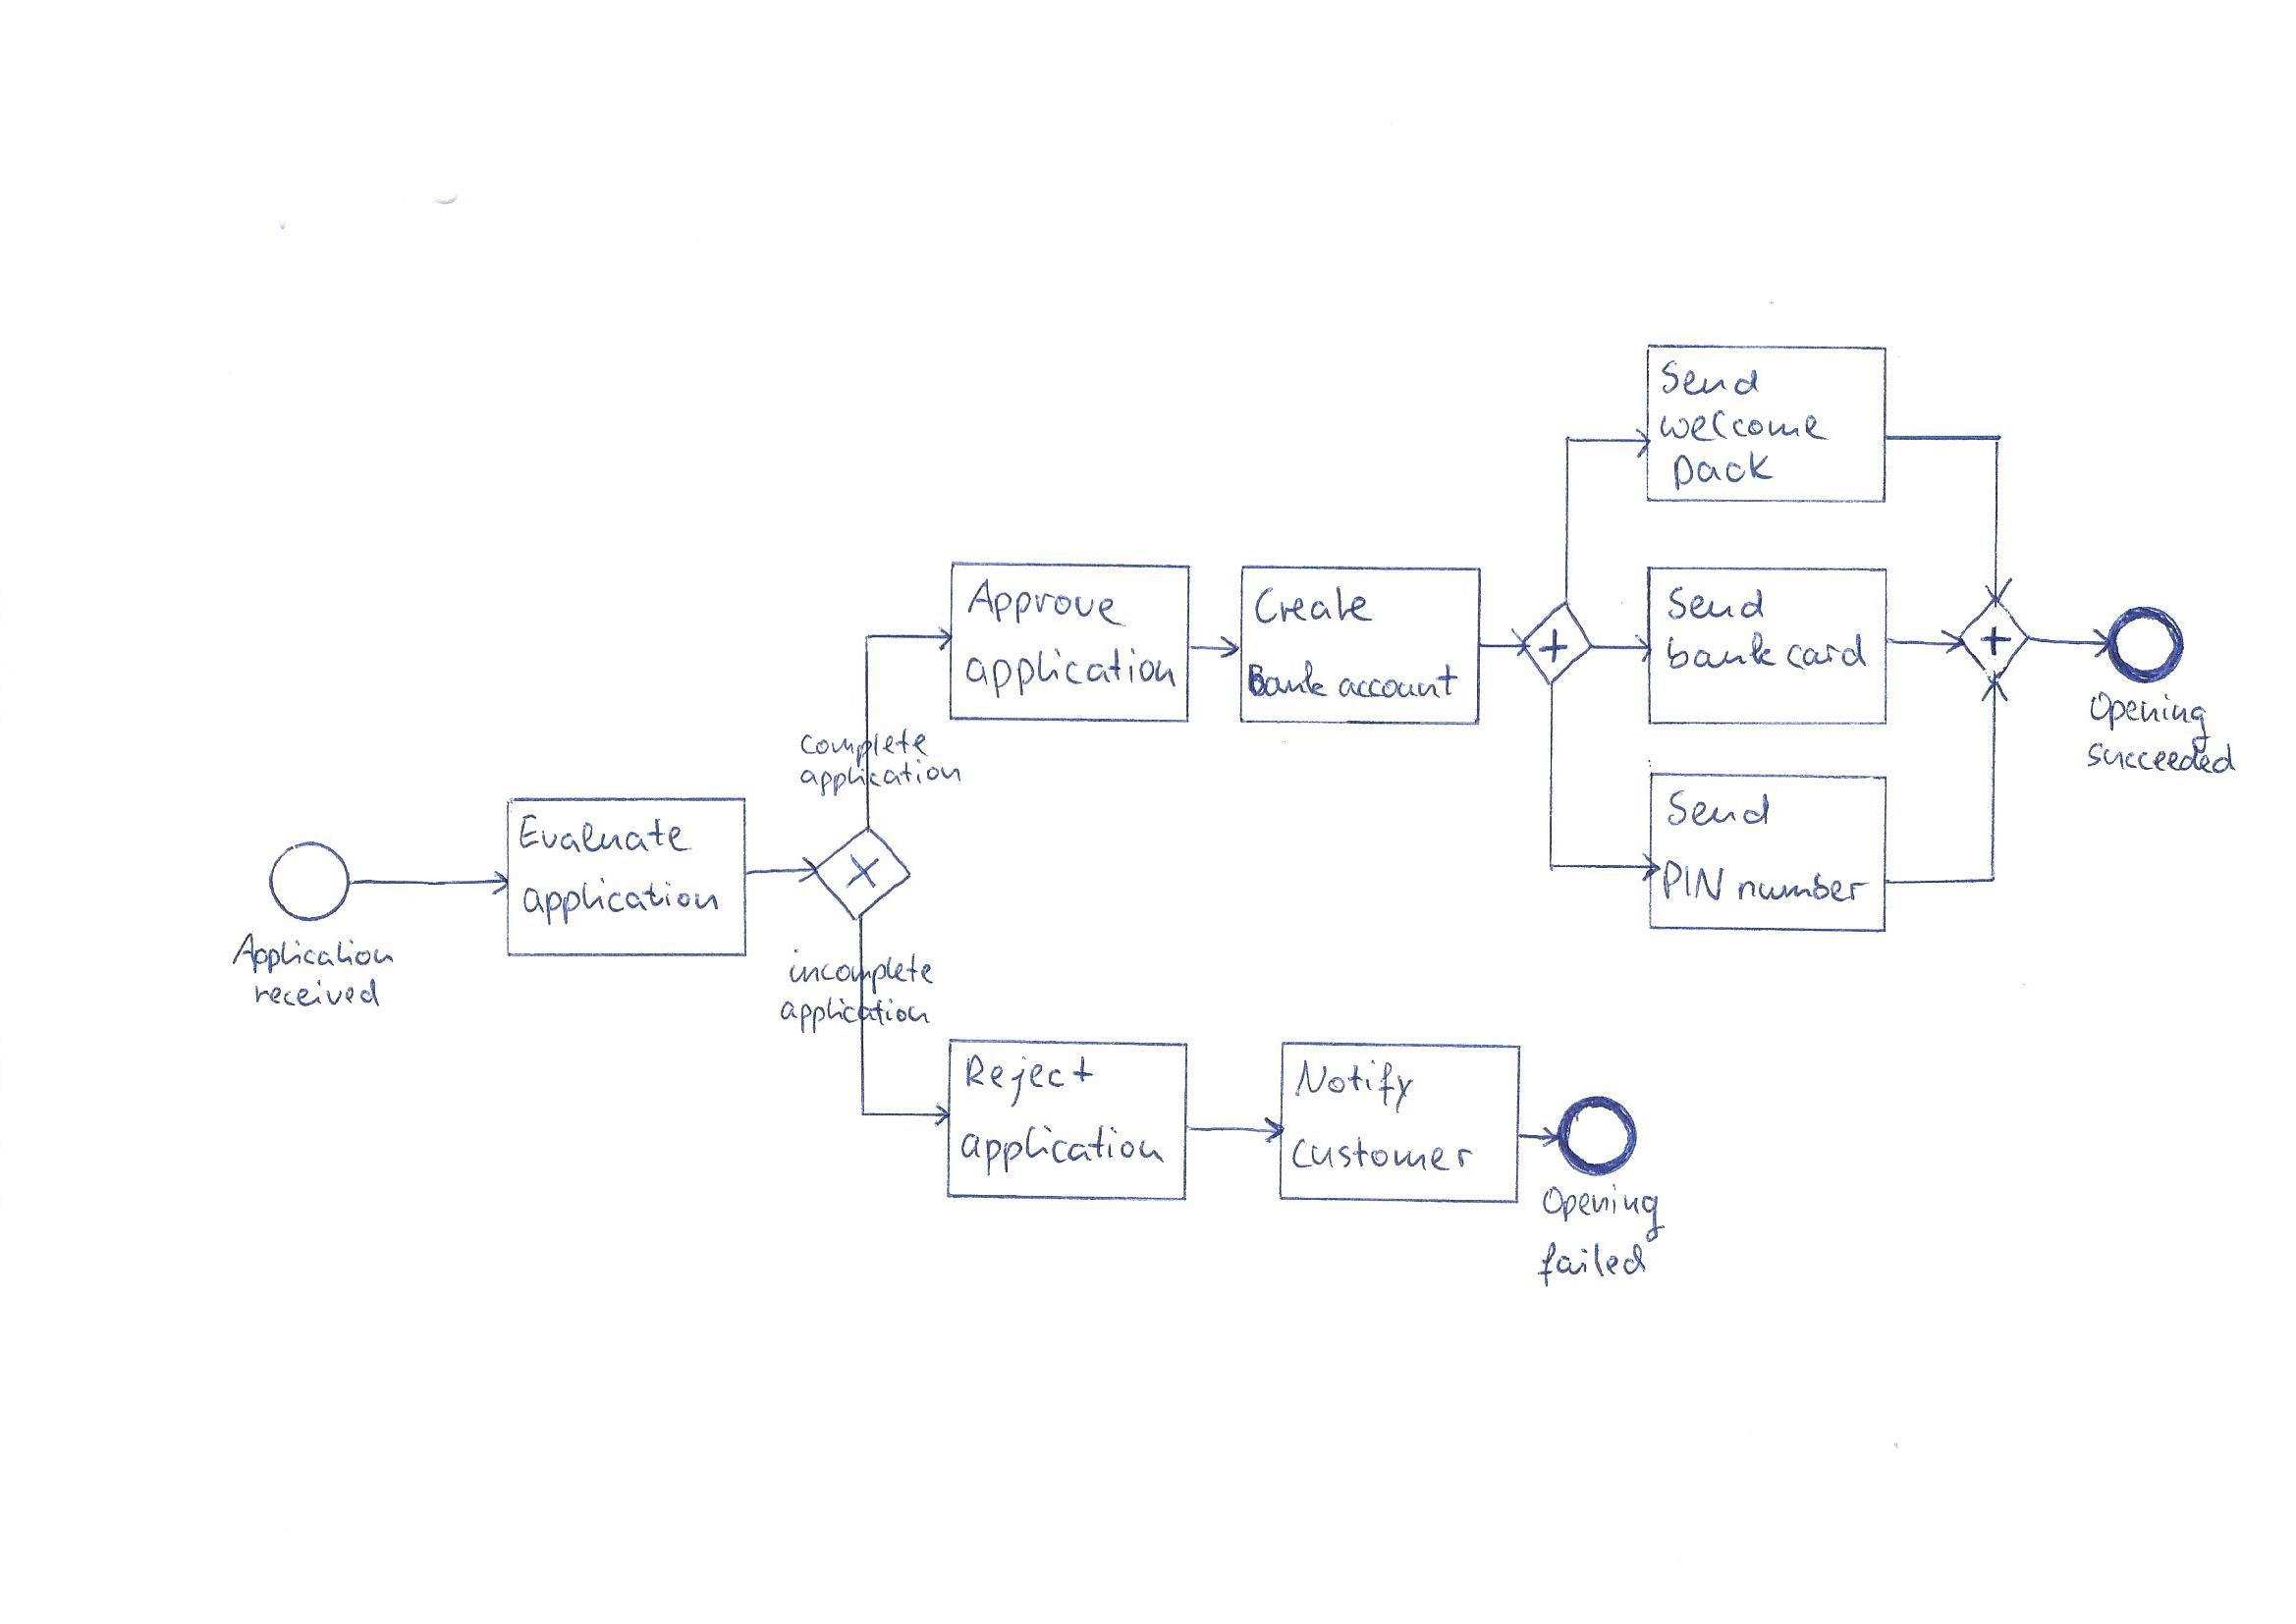Application: (230, 928, 397, 977)
Approve: (960, 576, 1127, 633)
Create: (1248, 580, 1387, 633)
Evaluate: (513, 808, 698, 863)
Notify: (1292, 1049, 1422, 1118)
Opening: (2082, 685, 2217, 749), (1538, 1178, 1668, 1241)
PIN: (1658, 856, 1733, 909)
Reject: (955, 1044, 1099, 1113)
account: (1336, 664, 1464, 705)
application: (958, 1118, 1173, 1181), (963, 649, 1183, 698), (522, 875, 723, 928), (795, 758, 969, 800), (775, 995, 935, 1035)
bank: (1668, 633, 1777, 675), (1239, 659, 1333, 708)
card: (1783, 633, 1874, 673)
complete: (795, 726, 934, 766)
customer: (1289, 1128, 1486, 1179)
failed: (1528, 1239, 1649, 1294)
incomplete: (784, 947, 942, 988)
number: (1733, 854, 1867, 917)
pack: (1670, 446, 1777, 496)
received: (243, 974, 387, 1018)
send: (1665, 782, 1772, 831), (1667, 584, 1767, 624), (1658, 360, 1762, 399)
succeeded: (2083, 740, 2243, 782)
welcome: (1654, 408, 1828, 446)
